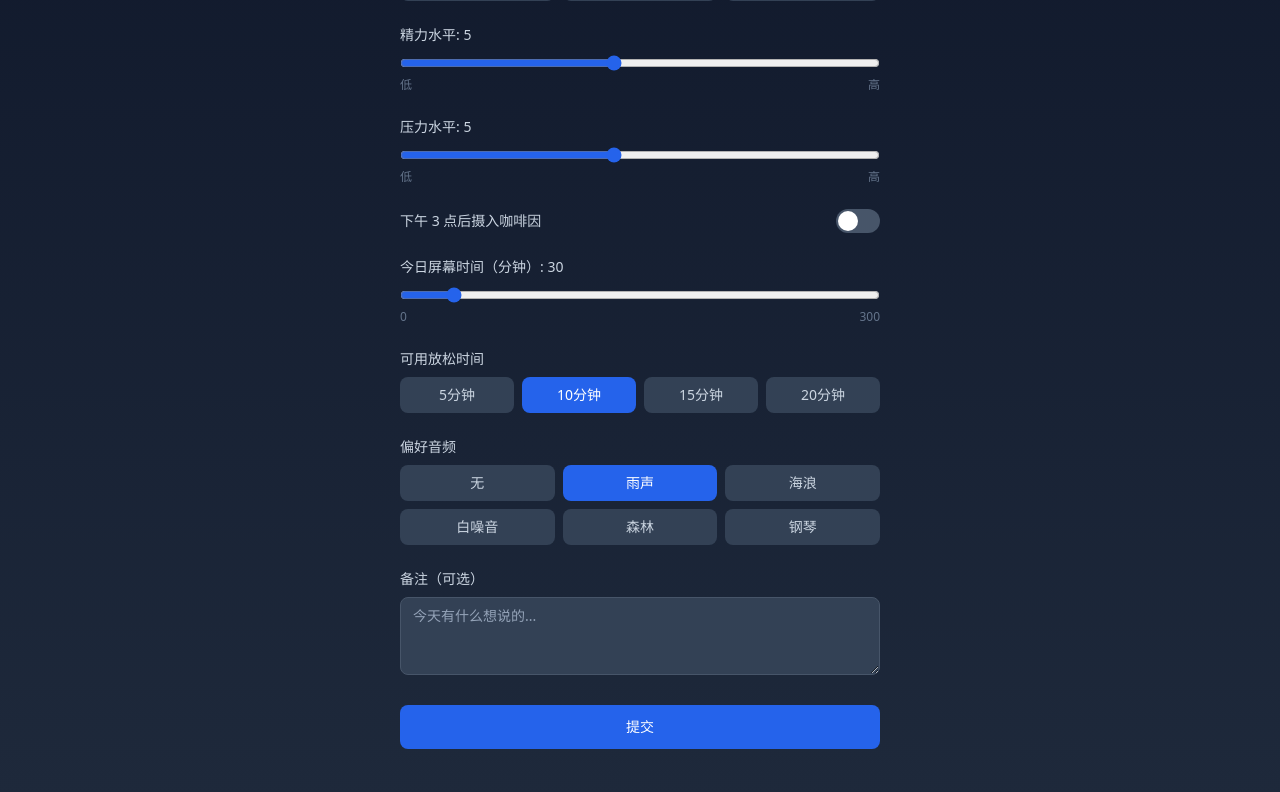
Test: Checkin Page › shows error message on API failure
The image size is (1280, 792).
(page scrolled)
Step 1. Click the button "提交" → (640,727), box [400,705,880,749]
(page scrolled)
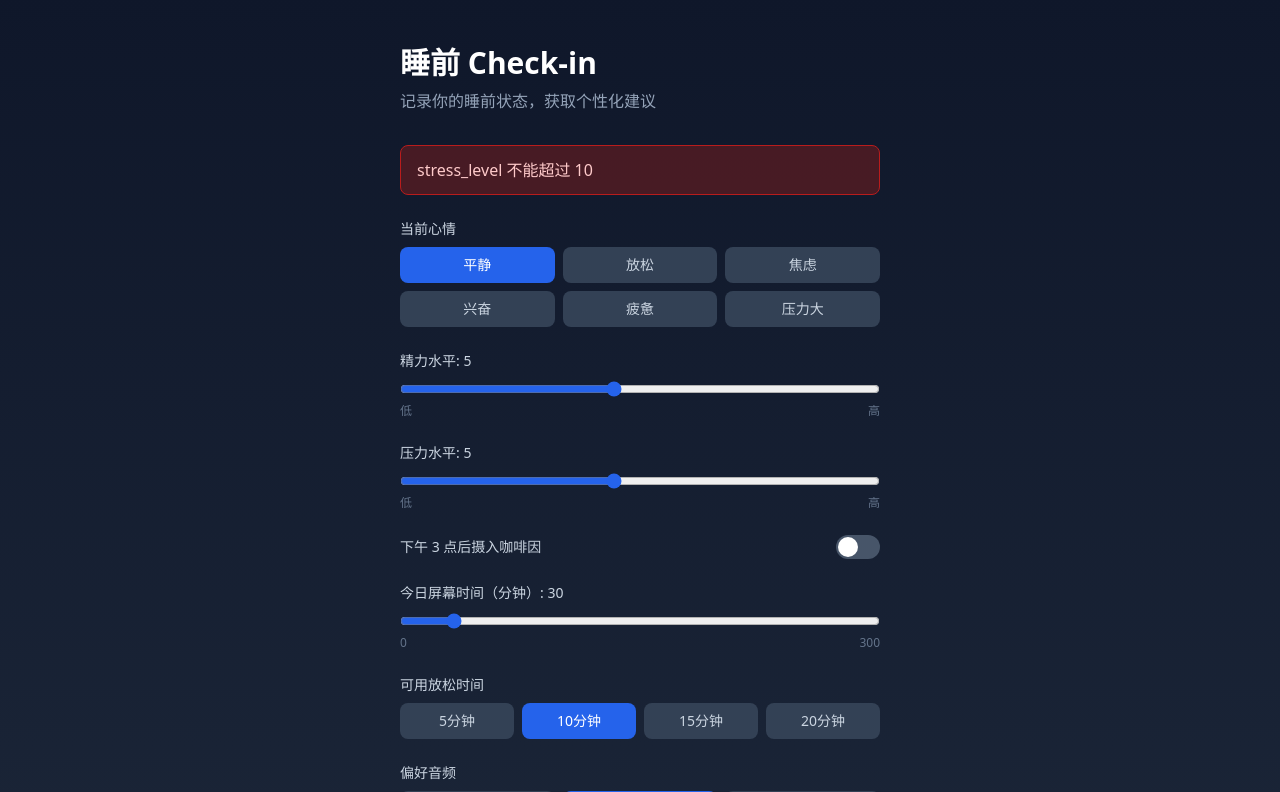
Expected: the text "stress_level 不能超过 10" is shown, [400,145,880,195]
